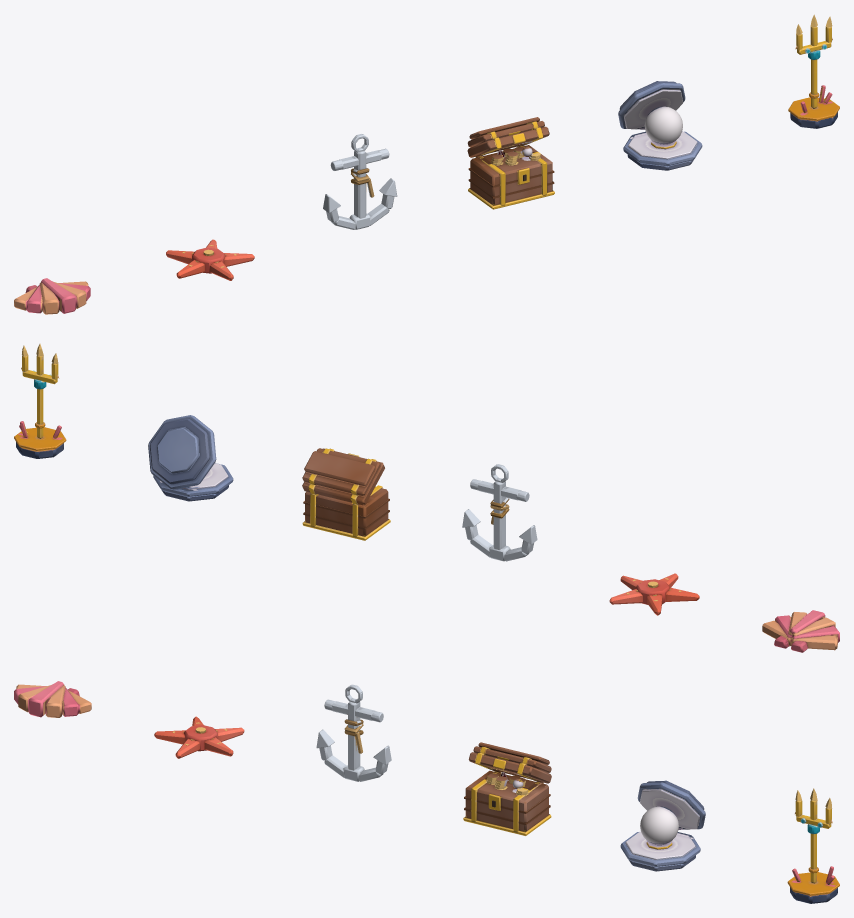
Rendered from Objets_Abysses_Rig.fbx.
3 renders of one model, top to bottom at view 1: azimuth 30°, elevation 25°; view 2: azimuth 150°, elevation 25°; view 3: azimuth 330°, elevation 25°, orthographic.
Parts seen in each view (by area): view 1: Coffre, Huitre, Ancre, Trident, Coquillage, EtoileDeMer; view 2: Coffre, Huitre, Ancre, Trident, Coquillage, EtoileDeMer; view 3: Coffre, Huitre, Ancre, Trident, Coquillage, EtoileDeMer.
Boxes of the visible parts, x1,y1,x2,y2 form: Coffre: (467,117,554,209); Huitre: (618,81,702,170); Ancre: (323,134,397,229); Trident: (788,14,839,128); Coquillage: (14,278,90,314); EtoileDeMer: (166,239,254,280); Coffre: (302,448,390,540); Huitre: (148,415,233,501); Ancre: (462,464,537,561); Trident: (14,343,66,458); Coquillage: (762,610,839,652); EtoileDeMer: (609,573,699,615); Coffre: (463,742,551,835); Huitre: (620,780,705,871); Ancre: (316,684,391,781); Trident: (787,788,839,903); Coquillage: (14,681,91,717); EtoileDeMer: (154,716,244,758).
Size of the model in its own units: 48.56 by 6 by 4.79.
1 material, 1 textured.
